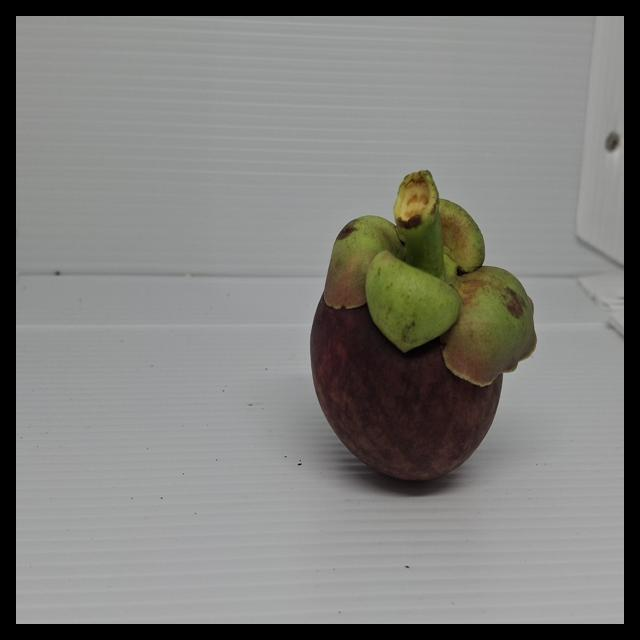mangosteen: (272, 149, 550, 517)
